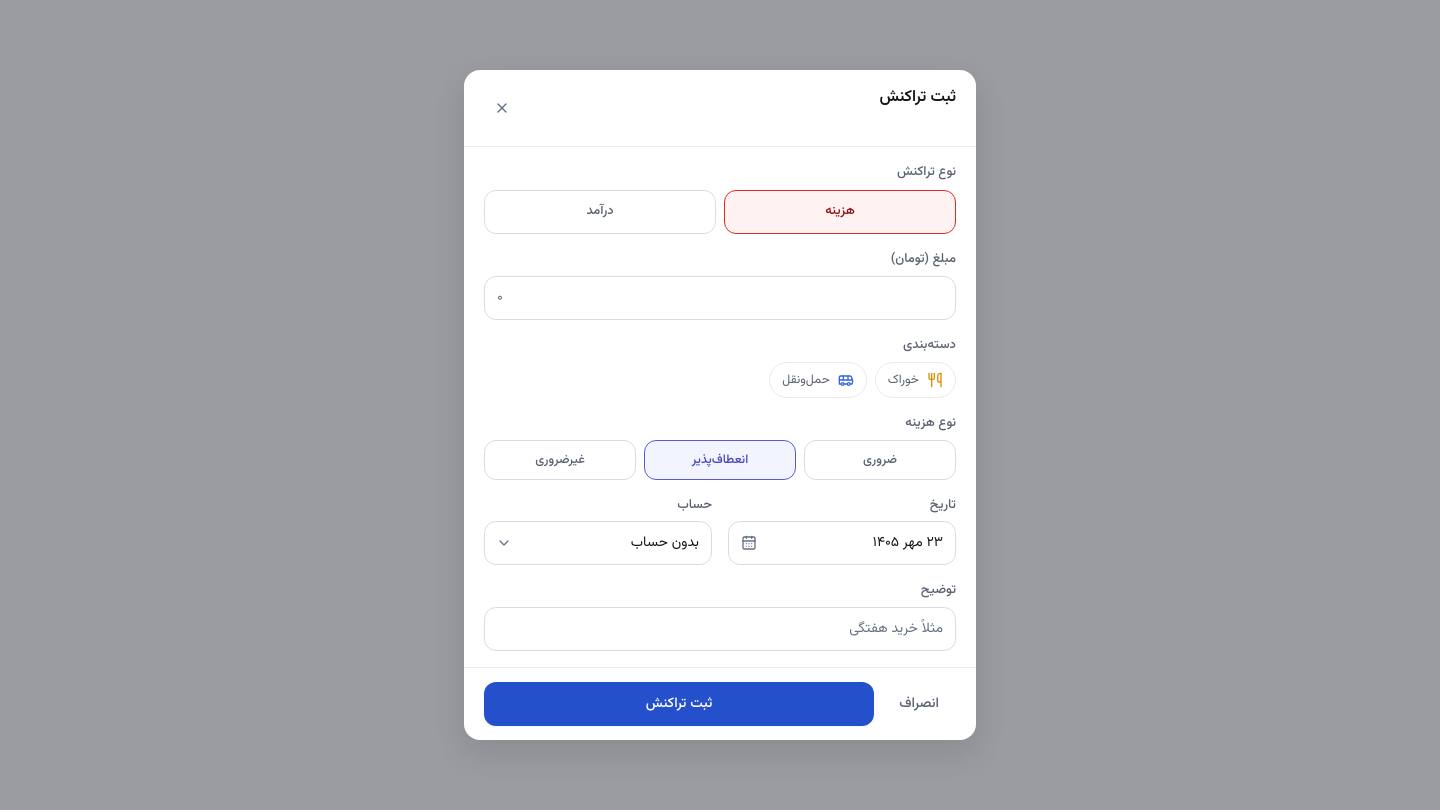
Test: TransactionForm › never surfaces a raw status code or an English server error
Expected: the button "خوراک" is shown, [875,362,956,398]
Type "250000" into the field labelled "مبلغ (تومان)".
click(720, 298); type("250000")  # box [484,276,956,320]
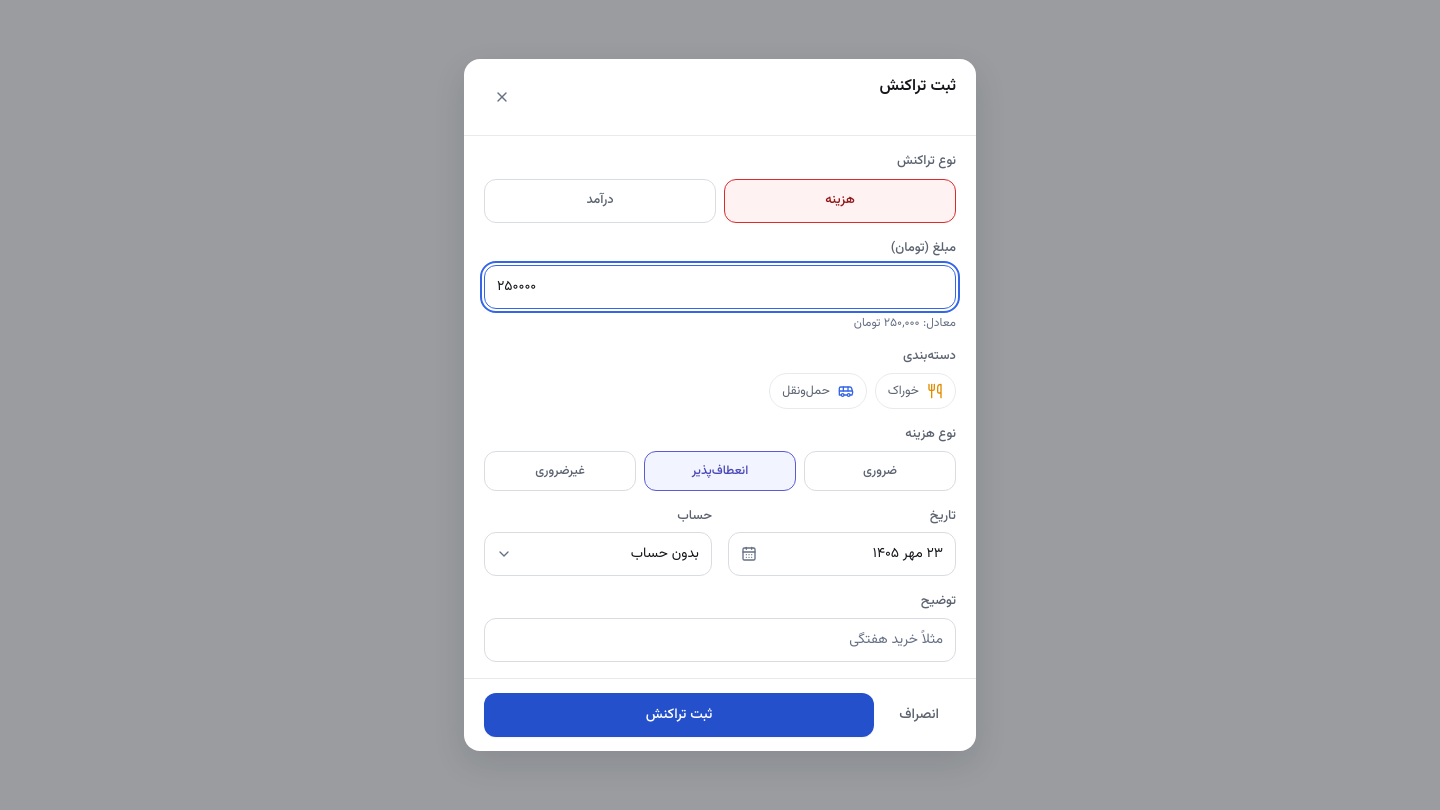
Click the button "خوراک".
click(915, 391)  # box [875,373,956,409]
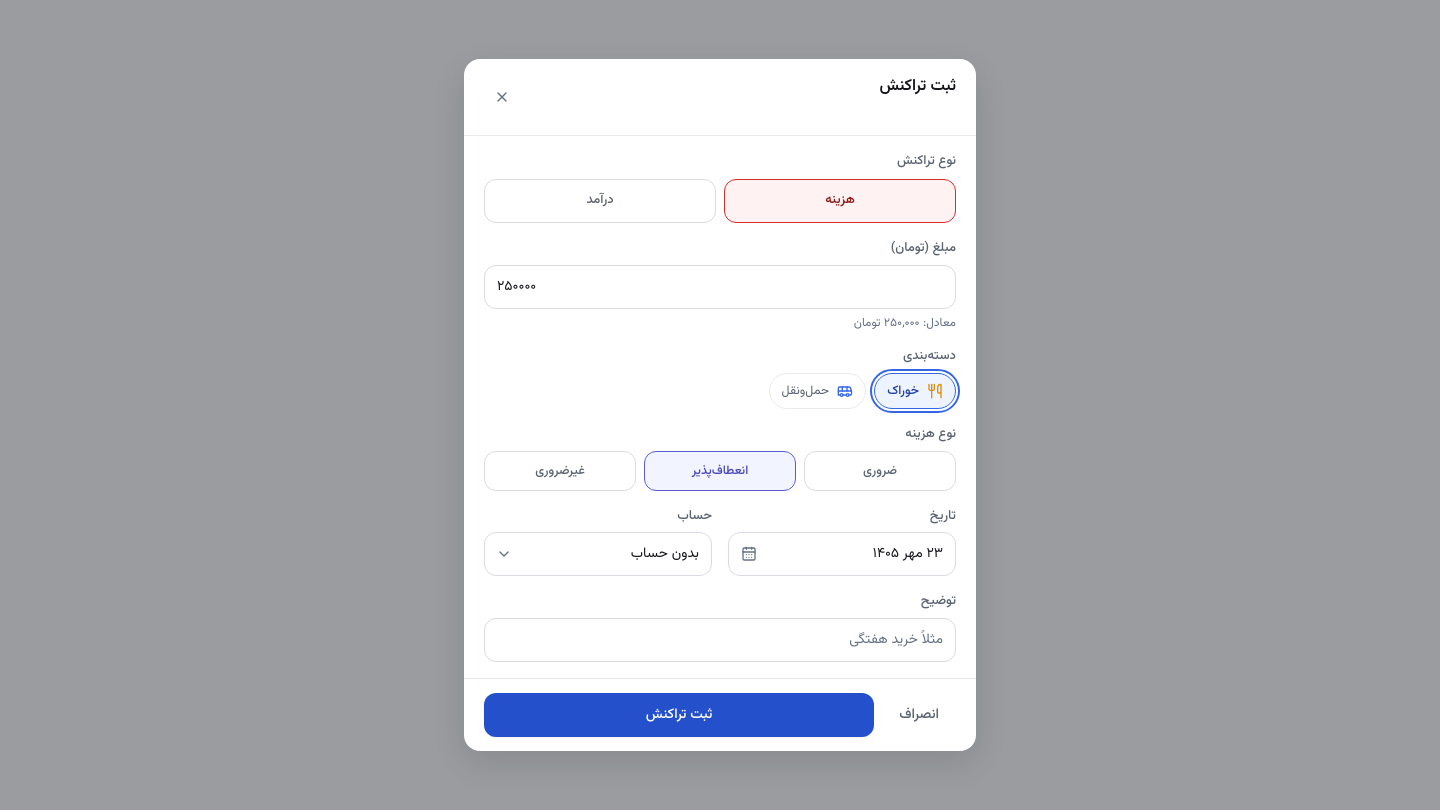
Click the button "ثبت تراکنش".
click(679, 715)  # box [484,693,874,737]
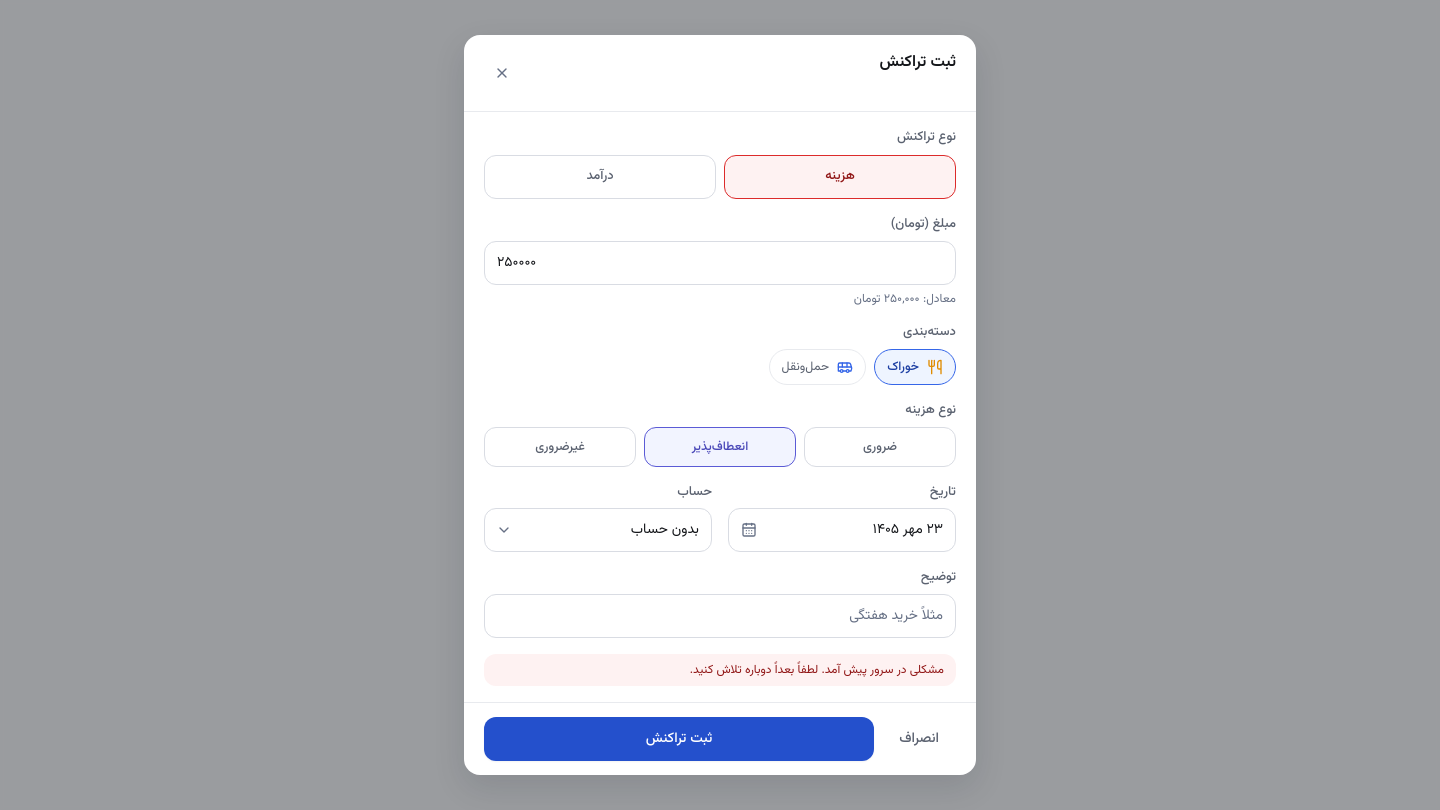
Expected: the message does not show "500"
Expected: the message "مشکلی در سرور پیش آمد. لطفاً بعداً دوباره تلاش کنید." is shown, [484,654,956,686]
Expected: the message reads "مشکلی در سرور پیش آمد. لطفاً بعداً دوباره تلاش کنید.", [690,661,944,679]
